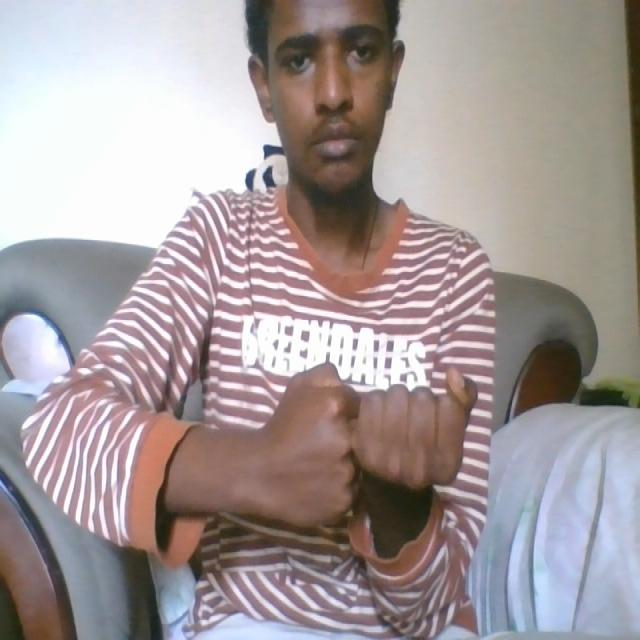beg: (237, 354, 482, 539)
